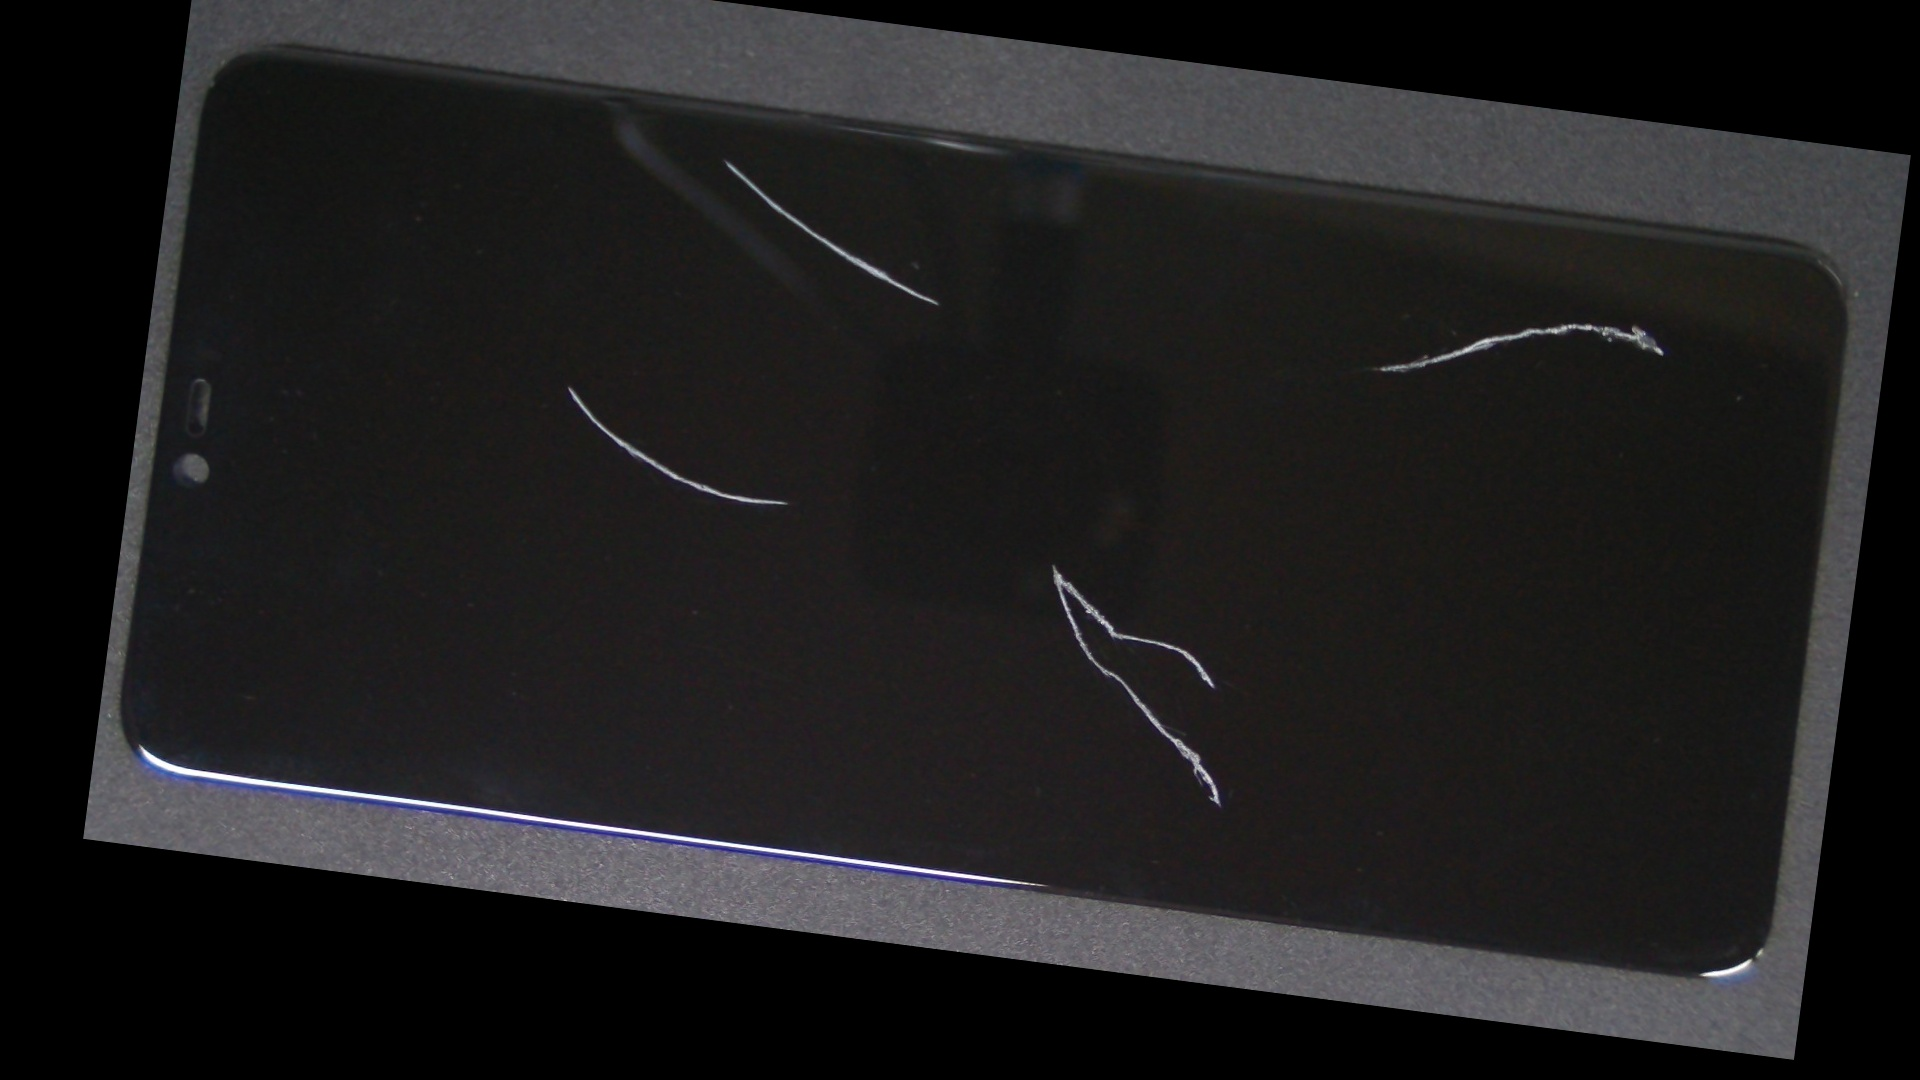oil: (560, 248, 1544, 878), (891, 128, 1898, 458), (332, 158, 803, 612), (443, 45, 1006, 270)
